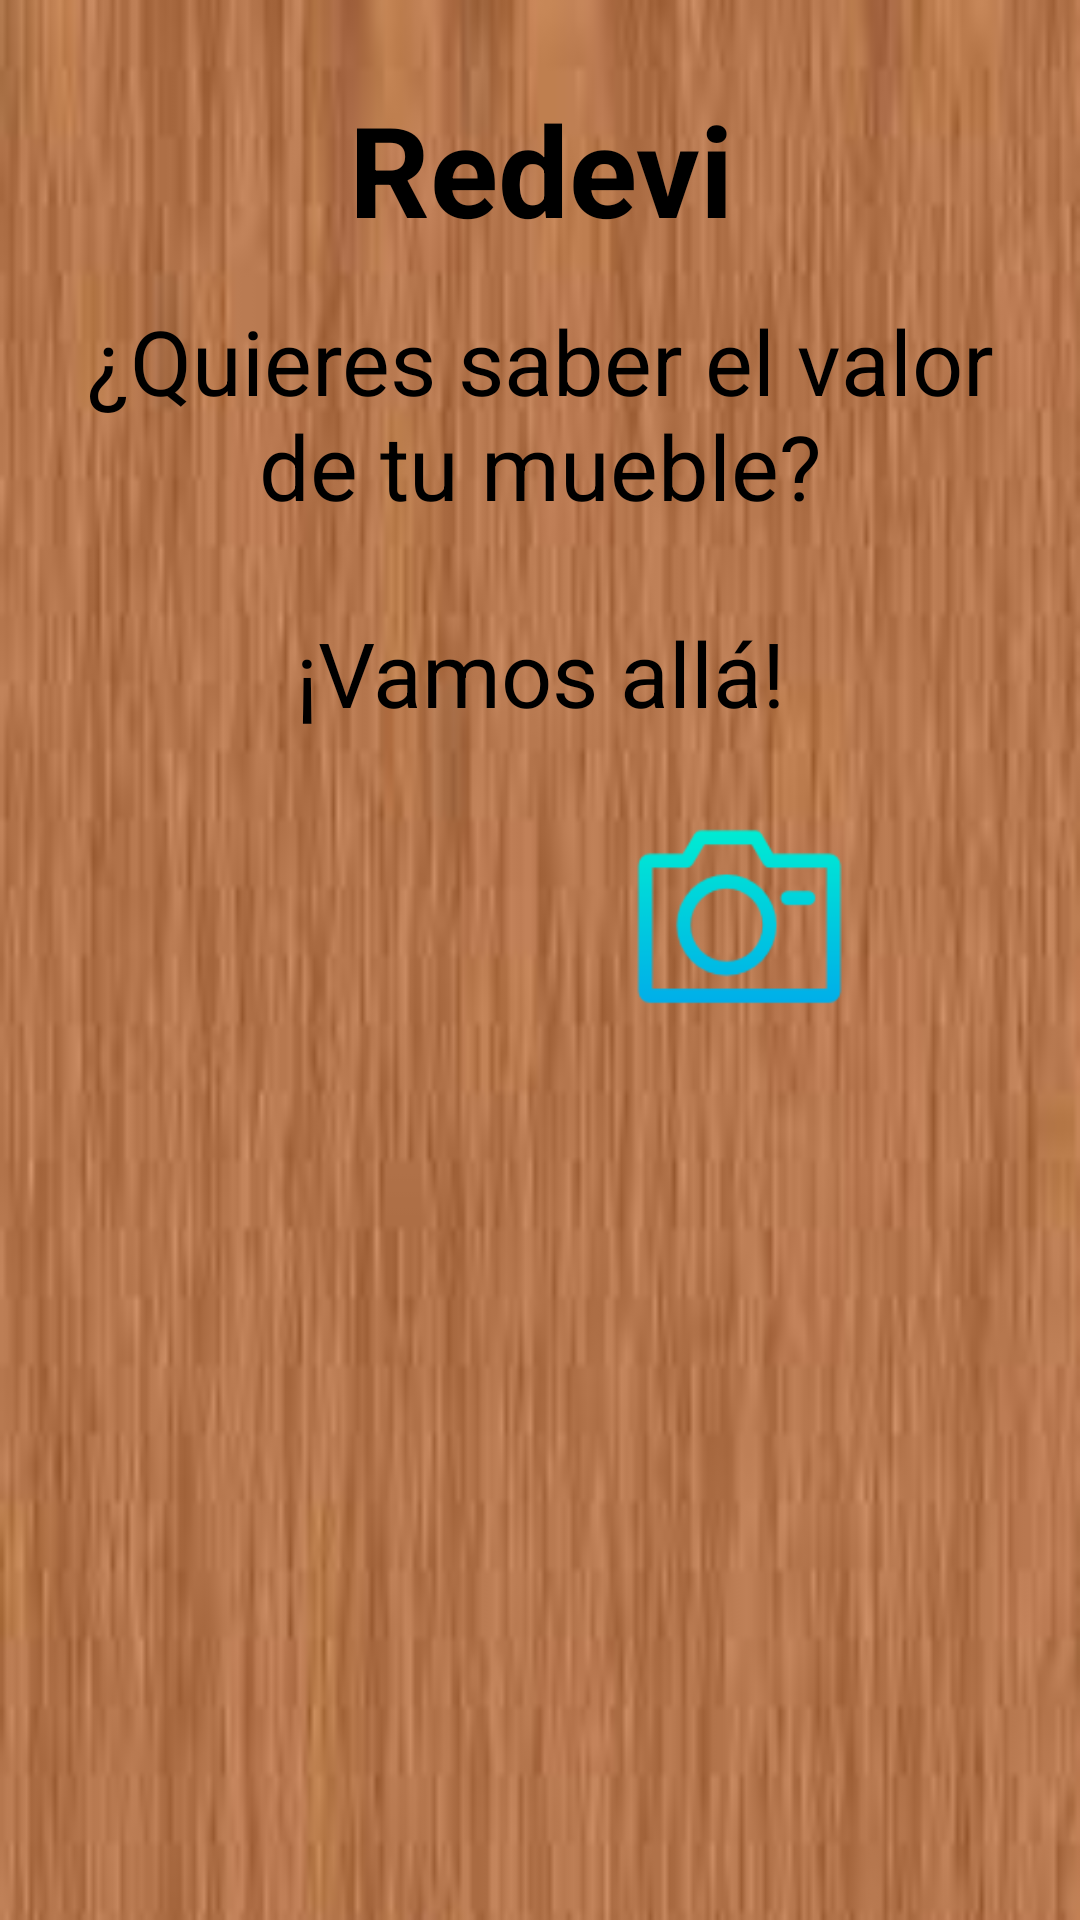

Where to tap for icons on this 1080px×1920px app screen, as (x=x, y=y):
camera: (x=740, y=912)
